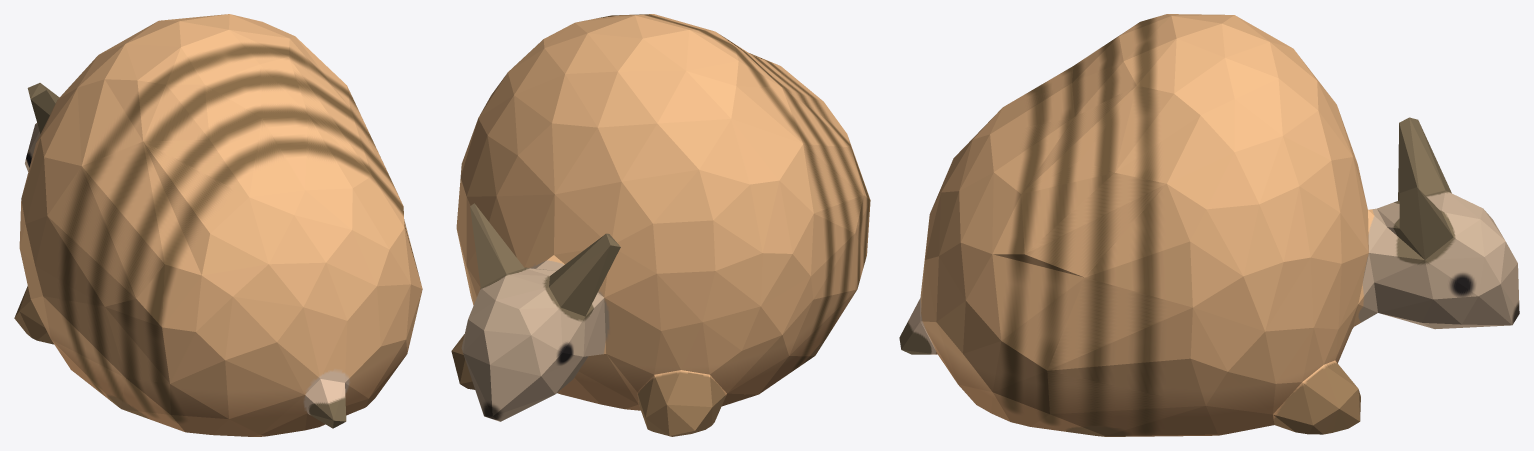
File: animal_armadillo_blob.obj
The picture shows the model from 3 angles, left to right: view 1: azimuth 30°, elevation 25°; view 2: azimuth 150°, elevation 25°; view 3: azimuth 270°, elevation 25°; orthographic projection. The views are drawn at different scales.
Visible parts, largest first — view 1: animal_armadillo_blob; view 2: animal_armadillo_blob; view 3: animal_armadillo_blob.
Boxes of the visible parts, left/top/right/bottom form: animal_armadillo_blob: left=14, top=14, right=422, bottom=436; animal_armadillo_blob: left=451, top=14, right=870, bottom=436; animal_armadillo_blob: left=899, top=14, right=1519, bottom=436.
Size of the model in its own units: 0.4867 by 0.4535 by 0.7419.
